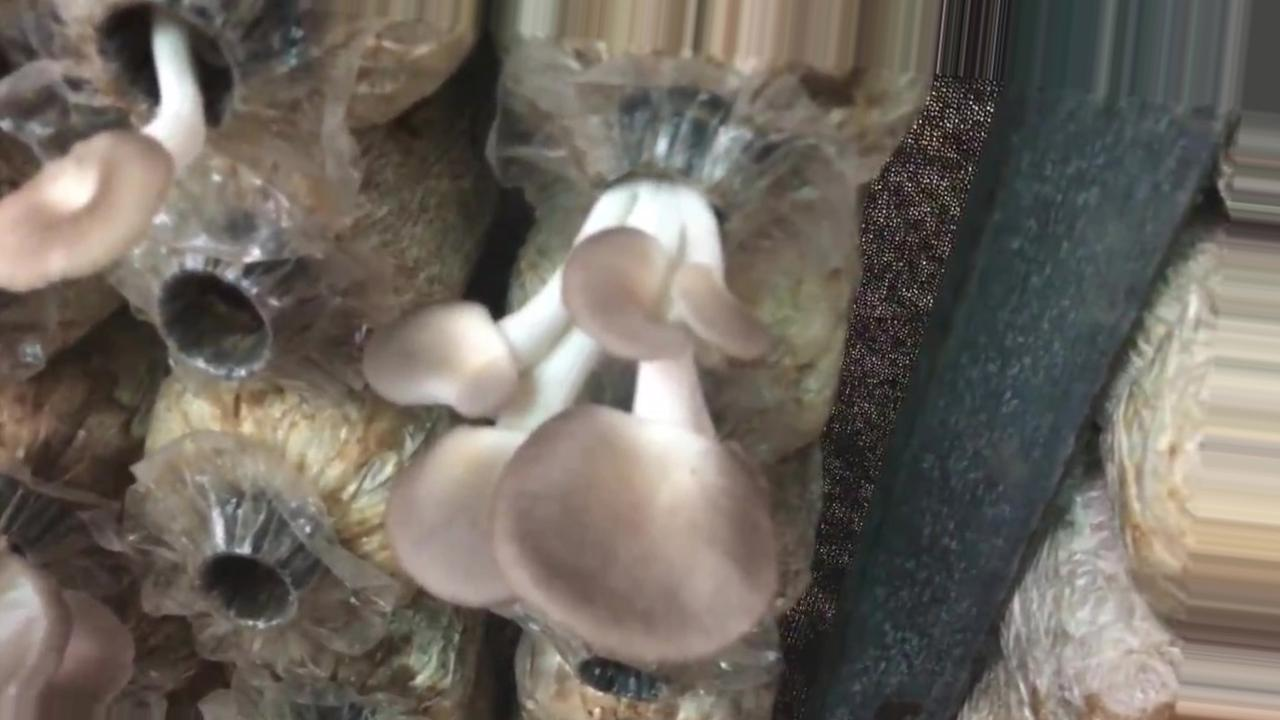nam: (366, 109, 782, 649), (1, 1, 248, 288)
